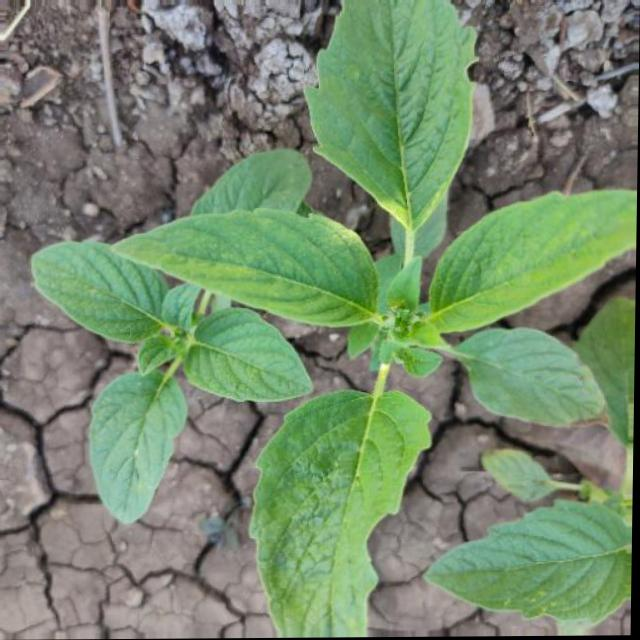crop: (105, 0, 638, 639), (24, 164, 329, 564)
